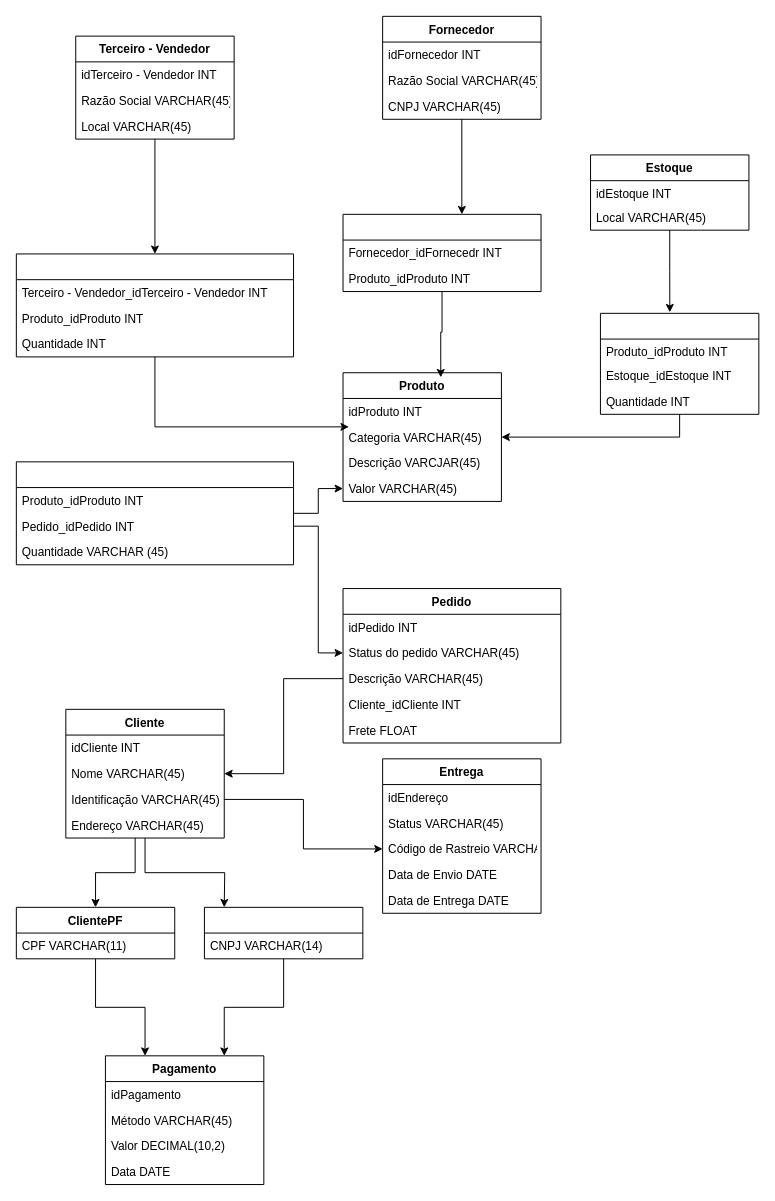
Some shapes in this 775 by 1201 pixel diagram are drawn without their labels. The shapes that lost their labels are listed below. From the top down, each one's box as (x1, y1, x2, y2) in pixels, then its label:
(342, 213, 541, 292): Disponibilizando um produto
(15, 253, 294, 357): Produtos por Vendedor (terceiro)
(599, 312, 759, 414): Produto_has_Estoque
(15, 461, 294, 565): Relação de Produto/pedido
(203, 906, 363, 959): ClientePJ
